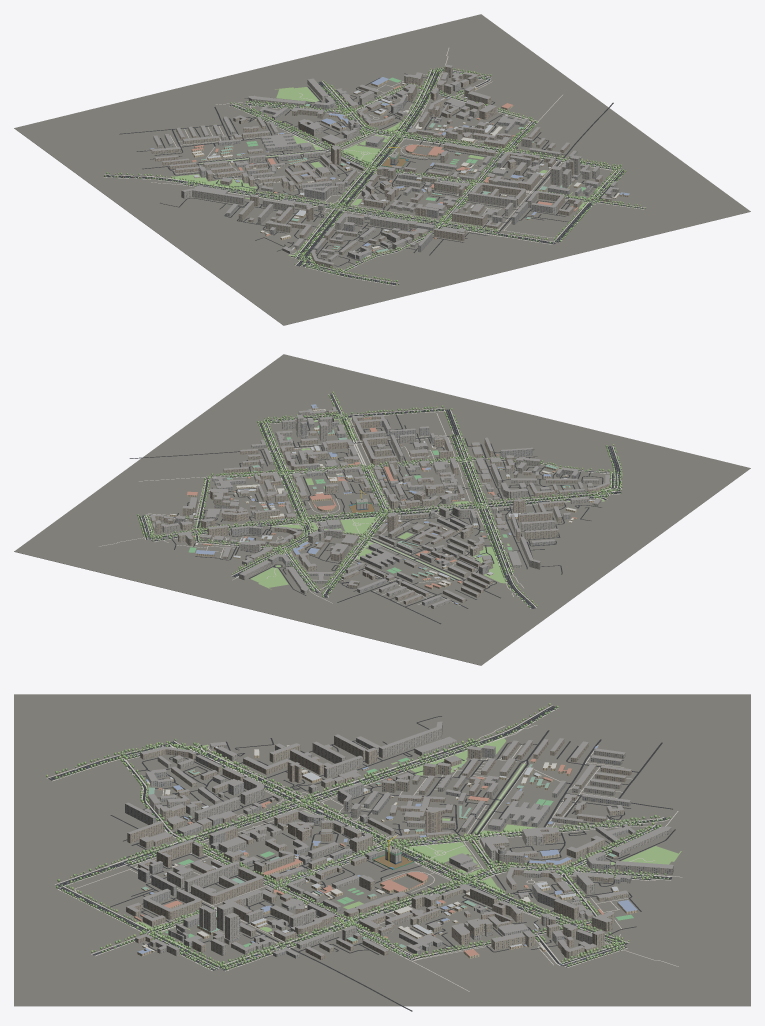
File: tsh-tower-current.glb
The picture shows the model from 3 angles, top to bottom: view 1: azimuth 30°, elevation 25°; view 2: azimuth 150°, elevation 25°; view 3: azimuth 270°, elevation 25°; orthographic projection. The views are drawn at different scales.
Bounding box in the file's own units: 2037 × 79.7 × 2000.
Materials: 51 (13 with a texture image).
